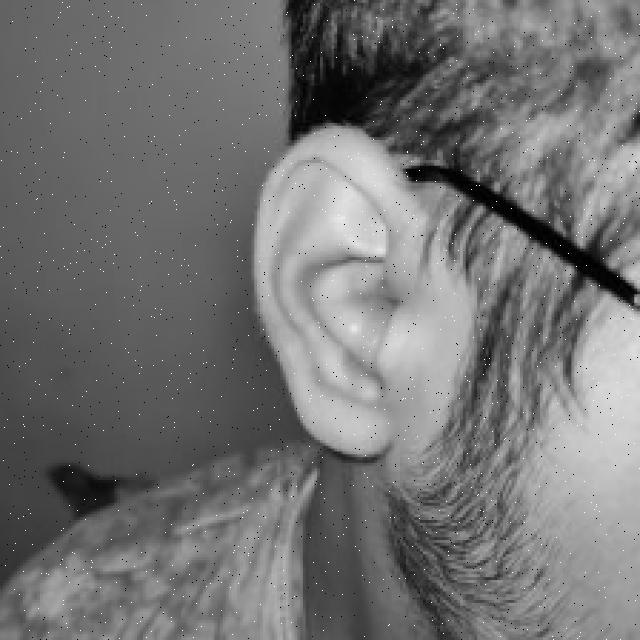ear: (251, 126, 420, 451)
